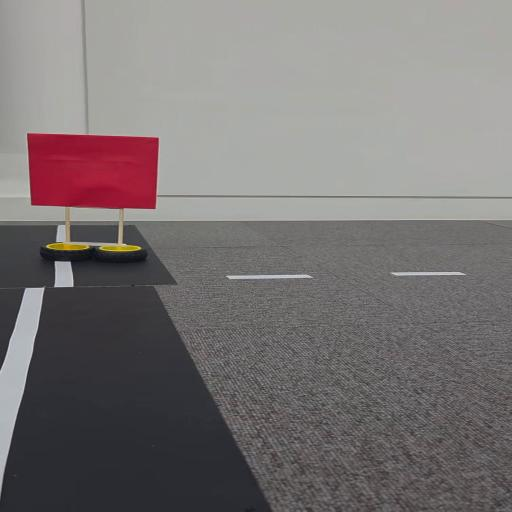Sign_A: (24, 126, 171, 264)
